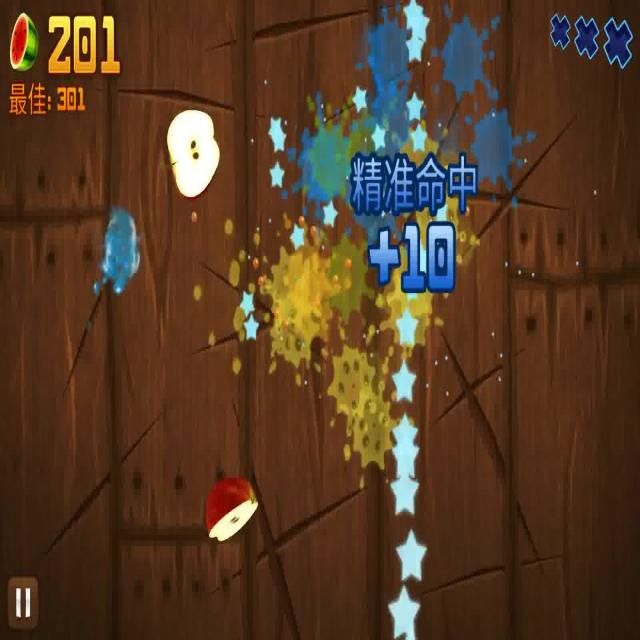fruit: (168, 110, 222, 201), (204, 480, 259, 538)
